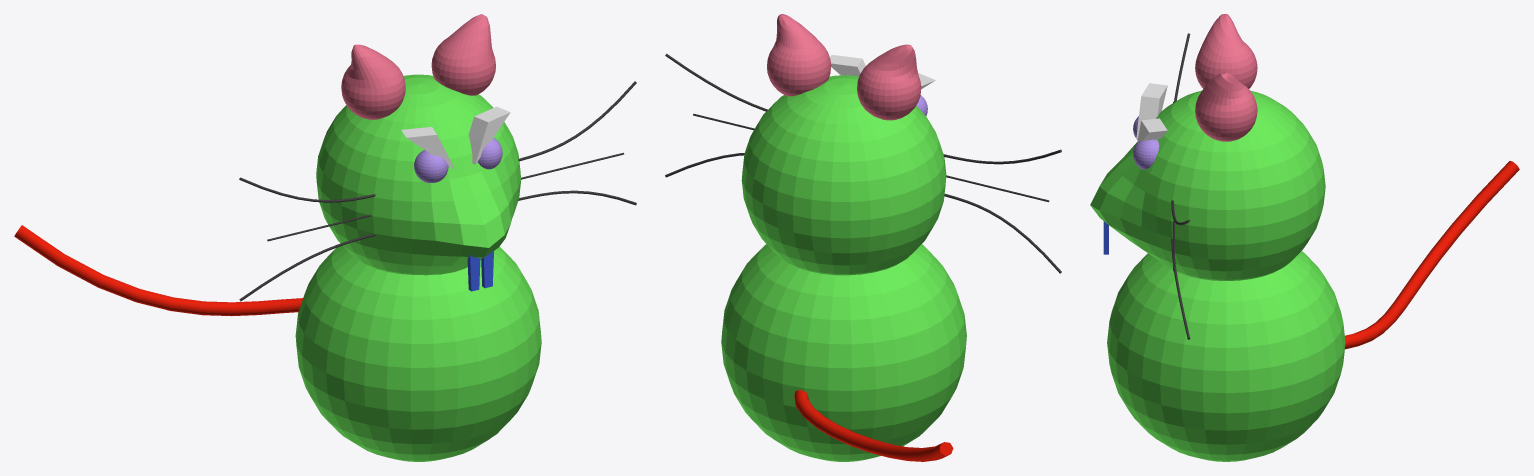
The model's file is mouse_sculpt.fbx.
3 renders of one model, left to right at view 1: azimuth 30°, elevation 25°; view 2: azimuth 150°, elevation 25°; view 3: azimuth 270°, elevation 25°, orthographic. The views are drawn at different scales.
Parts seen in each view (by area): view 1: Sphere.003, Sphere, Sphere.001, BézierCurve, Cube.001, NurbsPath, Sphere.002, Cube; view 2: Sphere.003, Sphere, Sphere.001, BézierCurve, NurbsPath, Cube.001, NurbsPath.001; view 3: Sphere.003, Sphere, Sphere.001, BézierCurve, Cube.001, Sphere.002, NurbsPath.
Part boxes in pixels (box(x1,y1,x2,y2)): Sphere.003: box(295, 245, 541, 461); Sphere: box(316, 74, 521, 275); Sphere.001: box(341, 14, 495, 119); BézierCurve: box(14, 225, 302, 316); Cube.001: box(401, 106, 510, 169); NurbsPath: box(239, 81, 636, 301); Sphere.002: box(414, 138, 502, 182); Cube: box(467, 250, 493, 291); Sphere.003: box(721, 244, 966, 461); Sphere: box(741, 75, 946, 275); Sphere.001: box(767, 14, 921, 120); BézierCurve: box(794, 389, 953, 461); NurbsPath: box(665, 53, 1061, 273); Cube.001: box(830, 55, 935, 88); NurbsPath.001: box(693, 113, 1049, 202); Sphere.003: box(1107, 251, 1345, 461); Sphere: box(1090, 90, 1325, 280); Sphere.001: box(1195, 14, 1257, 141); BézierCurve: box(1345, 161, 1519, 349); Cube.001: box(1136, 83, 1167, 142); Sphere.002: box(1133, 116, 1159, 169); NurbsPath: box(1171, 33, 1190, 339).
Bounding box in the file's own units: 511 × 452 × 432.
